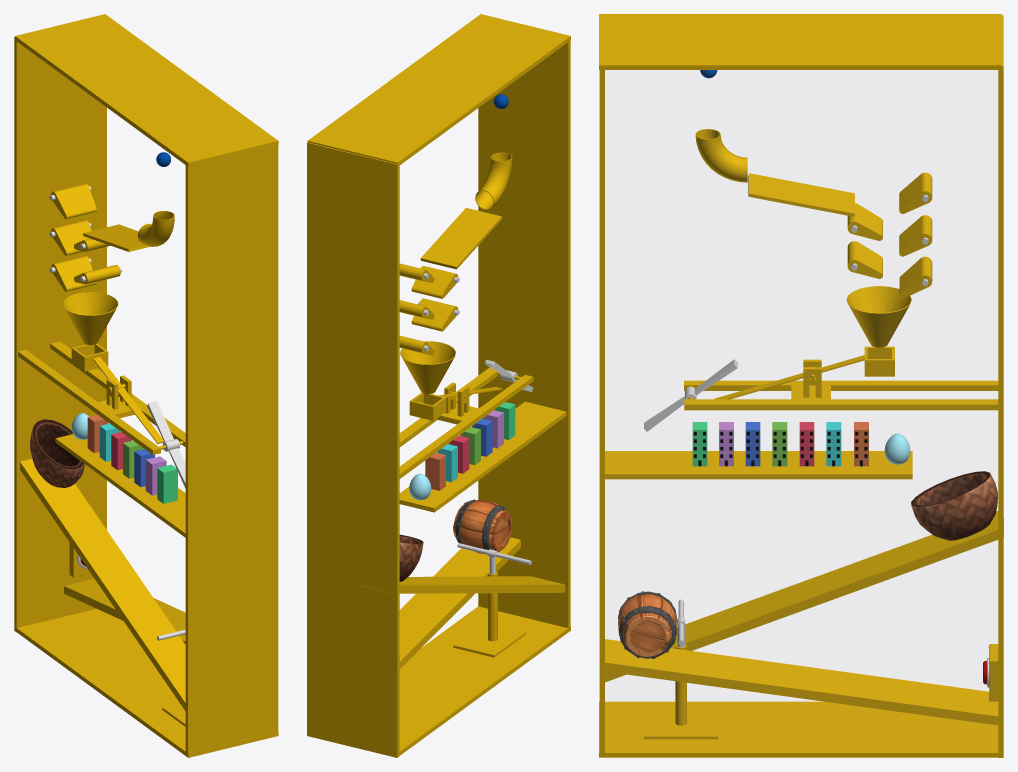
The picture shows the model from 3 angles, left to right: view 1: azimuth 30°, elevation 25°; view 2: azimuth 150°, elevation 25°; view 3: azimuth 270°, elevation 25°; orthographic projection. The views are drawn at different scales.
Visible parts, largest first — view 1: Masina_1_ram, Postolje2, Nova_klackalica, Postolje1, Korpa, Levak, Kasinka_nova, Postolje3, Fliper4, Dascica_1, Fliper3, Elise (+10 smaller); view 2: Masina_1_ram, Postolje3, Postolje1, Nova_klackalica, Postolje2, Burence, Dascica_1, Stalak, Levak, Tunel, Kasinka_nova, Fliper (+11 smaller); view 3: Masina_1_ram, Postolje3, Postolje2, Nova_klackalica, Postolje1, Korpa, Burence, Levak, Dascica_1, Stalak, Kasinka_nova, Tunel (+13 smaller).
Boxes of the visible parts, <box> form: Masina_1_ram: <box>14,14,278,757</box>; Postolje2: <box>20,458,185,710</box>; Nova_klackalica: <box>18,341,185,454</box>; Postolje1: <box>55,434,185,537</box>; Korpa: <box>30,419,84,487</box>; Levak: <box>62,292,118,344</box>; Kasinka_nova: <box>71,343,164,443</box>; Postolje3: <box>64,578,185,644</box>; Fliper4: <box>49,183,96,218</box>; Dascica_1: <box>83,224,149,251</box>; Fliper3: <box>50,256,96,291</box>; Elise: <box>147,401,185,488</box>; Masina_1_ram: <box>307,14,570,757</box>; Postolje3: <box>399,537,520,669</box>; Postolje1: <box>399,401,566,512</box>; Nova_klackalica: <box>399,367,533,478</box>; Postolje2: <box>360,576,565,593</box>; Burence: <box>453,499,512,554</box>; Dascica_1: <box>420,207,502,269</box>; Stalak: <box>453,571,526,657</box>; Levak: <box>400,341,455,394</box>; Tunel: <box>475,152,512,210</box>; Kasinka_nova: <box>409,387,502,420</box>; Fliper: <box>411,266,459,298</box>; Masina_1_ram: <box>599,14,1003,757</box>; Postolje3: <box>605,639,998,725</box>; Postolje2: <box>605,511,1003,682</box>; Nova_klackalica: <box>684,359,998,410</box>; Postolje1: <box>605,451,912,479</box>; Korpa: <box>911,471,997,540</box>; Burence: <box>618,591,677,658</box>; Levak: <box>846,286,911,347</box>; Dascica_1: <box>748,173,854,216</box>; Stalak: <box>643,644,718,739</box>; Kasinka_nova: <box>714,346,894,399</box>; Tunel: <box>695,129,747,182</box>.
Bounding box in the file's own units: 0.0794 × 0.4906 × 0.2598.
Materials: 17 (10 with a texture image).
